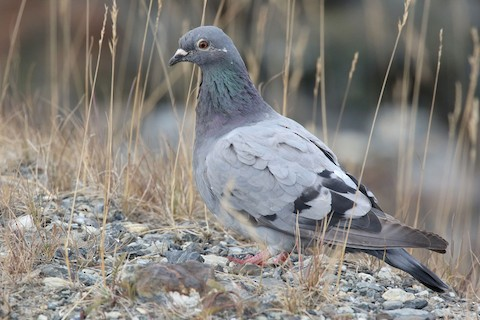pigeon: (166, 21, 455, 299)
